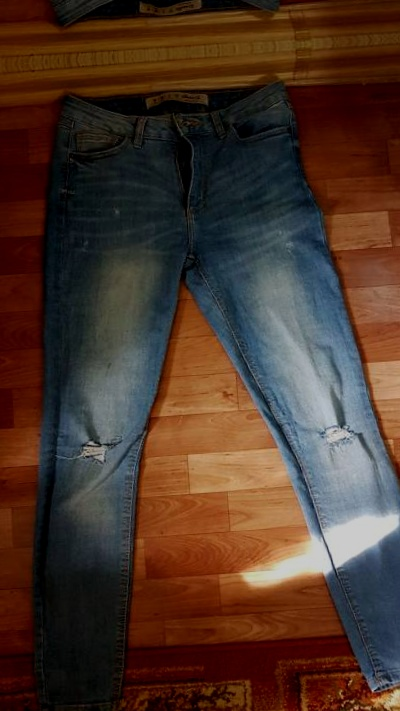Pants: (0, 65, 400, 711), (0, 0, 387, 39), (394, 38, 400, 711), (346, 0, 400, 11)
